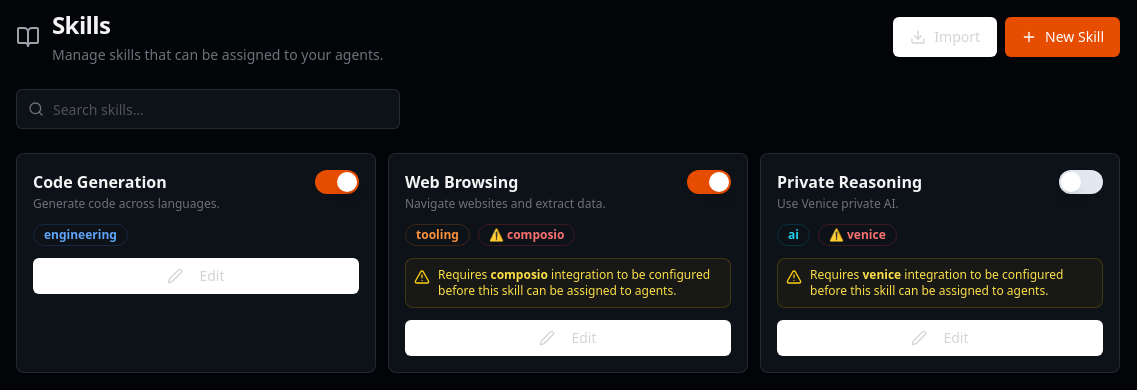
it: Skills Registry Page (VAL-SKILLS-001) › search filters skills by name
The width and height of the screenshot is (1137, 390).
Expected: the text "Code Generation" is shown, [33,171,167,193]
Type "Code" into the field with placeholder "Search skills…" at (208, 109), box [16,89,400,129]
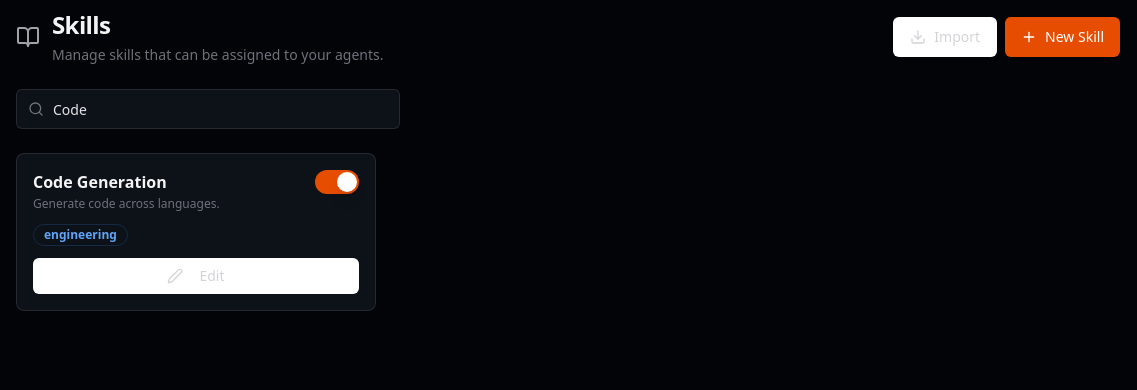
Expected: the text "Code Generation" is shown, [33,171,167,193]
Expected: the text "Web Browsing" is gone
